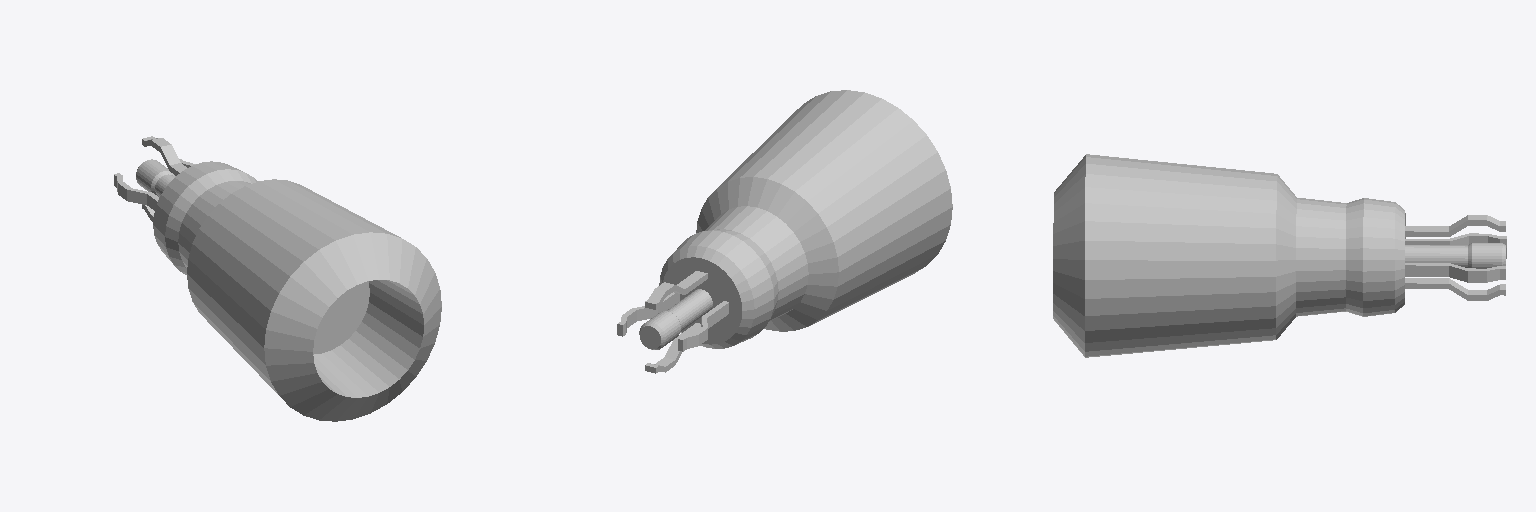
File: newtool1.obj
3 views of the same model, side by side, from view 1: azimuth 30°, elevation 25°; view 2: azimuth 150°, elevation 25°; view 3: azimuth 270°, elevation 25° (orthographic).
Visible parts, largest first — view 1: Cube.001_Cube.004; view 2: Cube.001_Cube.004; view 3: Cube.001_Cube.004.
Boxes of the visible parts, box(x1,y1,x2,y2) form: Cube.001_Cube.004: box(114, 136, 441, 421); Cube.001_Cube.004: box(617, 90, 952, 373); Cube.001_Cube.004: box(1053, 154, 1506, 357).
Bounding box in the file's own units: 0.544 × 0.544 × 1.21.